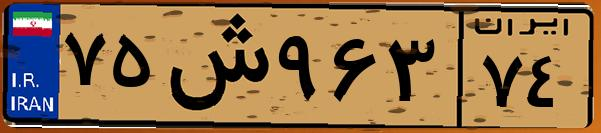3: (385, 28, 445, 110)
4: (525, 38, 570, 115)
5: (110, 28, 158, 98)
6: (330, 28, 385, 110)
7: (57, 26, 110, 100), (475, 38, 525, 113)
9: (270, 28, 330, 110)
ش: (158, 12, 270, 120)
